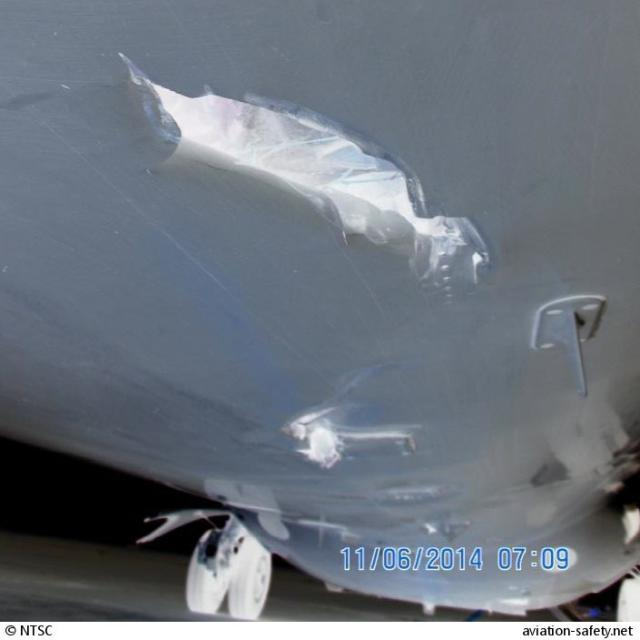crack: (116, 53, 494, 295)
